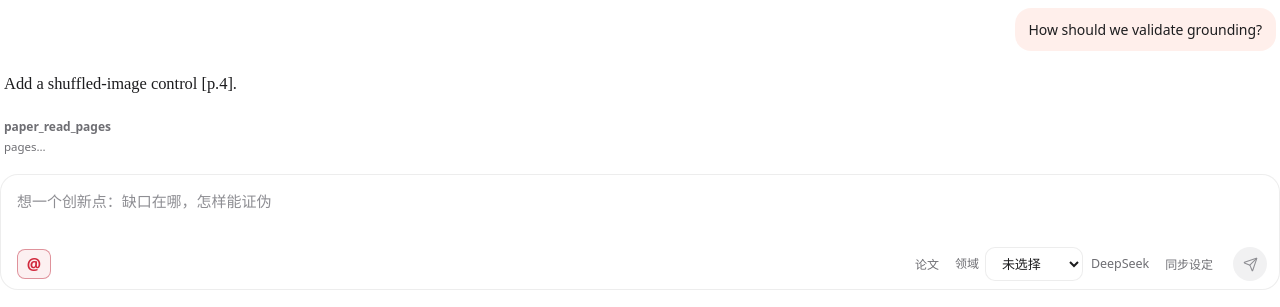
Scenario: mentions a library paper and a surveyed field from the @ menu
Later steps or results of the test are not shown.
Step 1. Click the button named "提及论文或领域" → (34, 264), box [17,249,51,279]
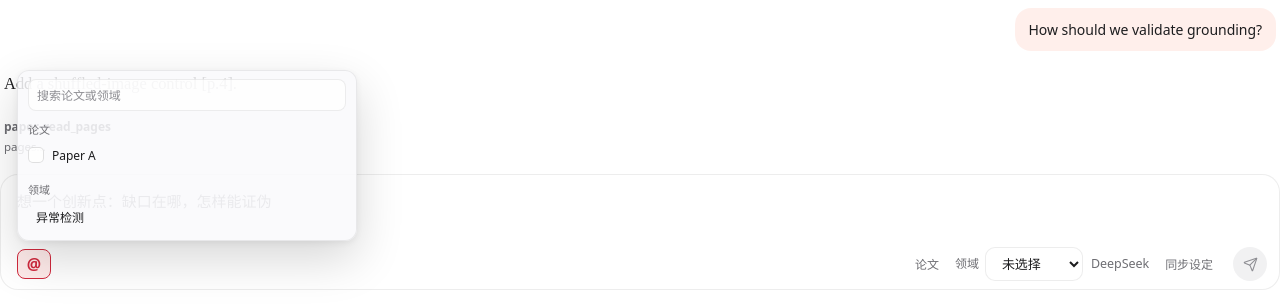
Now the text "Paper A" is shown, box [52,147,96,166]
Now the text "异常检测" is shown, box [28,202,346,232]
